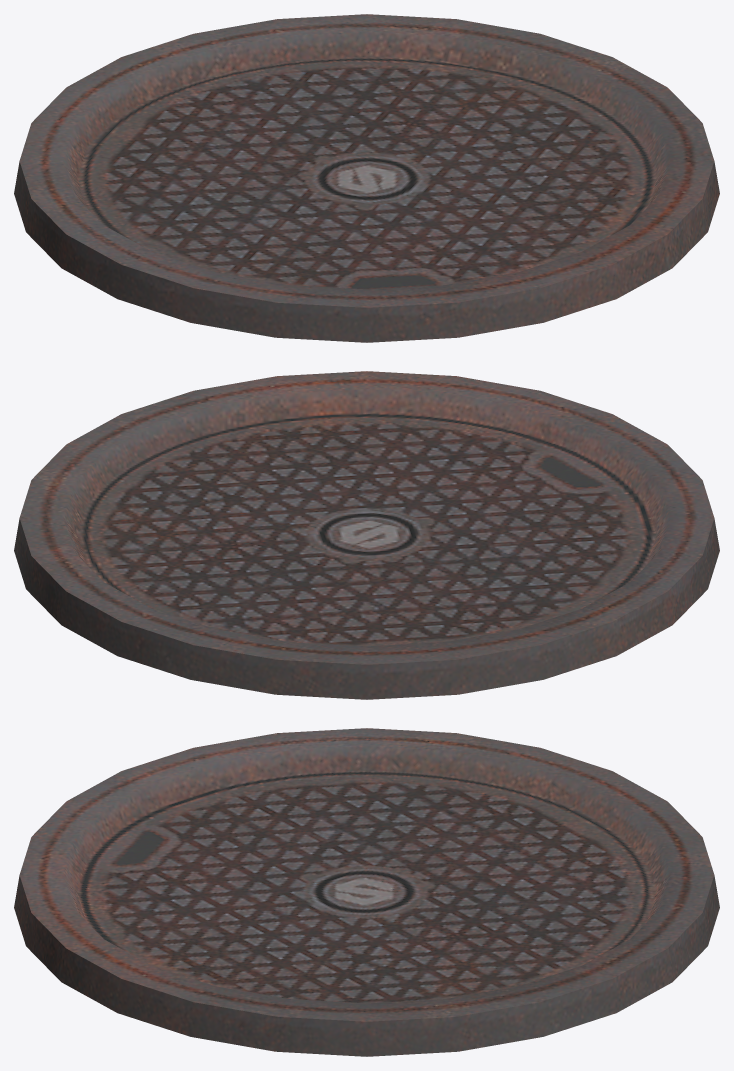
The model's file is Hatchway_01.fbx.
3 renders of one model, top to bottom at view 1: azimuth 30°, elevation 25°; view 2: azimuth 150°, elevation 25°; view 3: azimuth 270°, elevation 25°, orthographic.
Parts seen in each view (by area): view 1: Hatchway_01_LOD0; view 2: Hatchway_01_LOD0; view 3: Hatchway_01_LOD0.
Boxes of the visible parts, left/top/right/bottom form: Hatchway_01_LOD0: left=14, top=14, right=719, bottom=342; Hatchway_01_LOD0: left=14, top=371, right=719, bottom=699; Hatchway_01_LOD0: left=14, top=728, right=719, bottom=1056.
Size of what is drawn, in the model's own units: 69.02 by 3.53 by 69.02.
